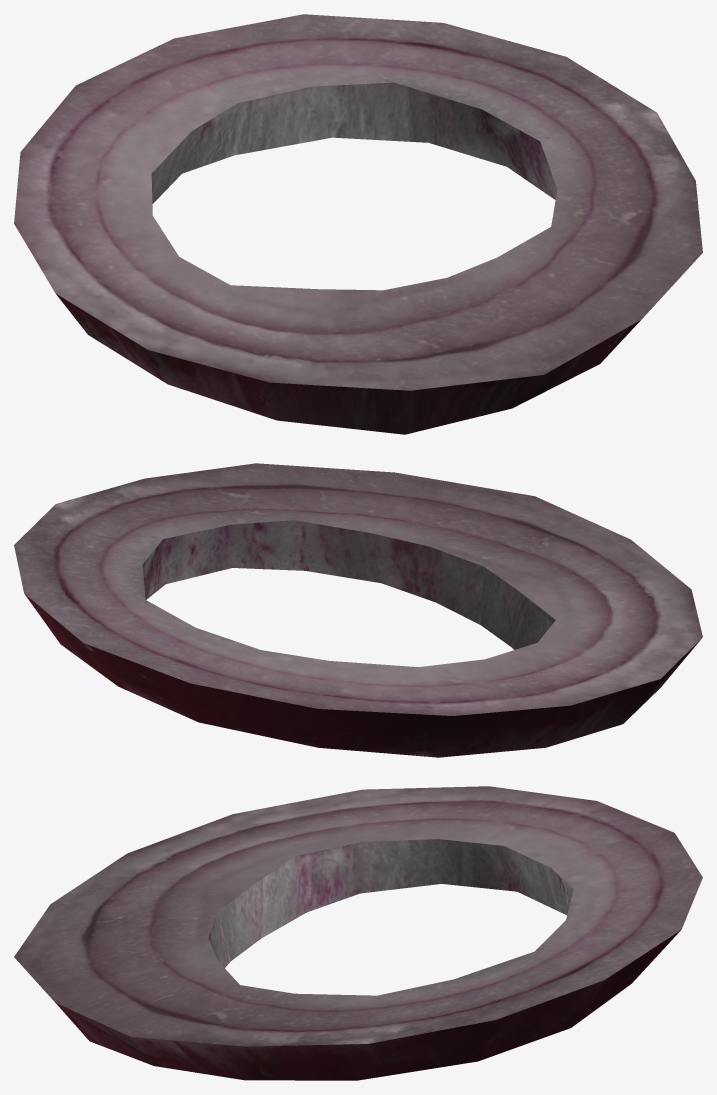
Rendered from Onion.fbx.
3 renders of one model, top to bottom at view 1: azimuth 30°, elevation 25°; view 2: azimuth 150°, elevation 25°; view 3: azimuth 270°, elevation 25°, orthographic. The views are drawn at different scales.
Visible parts, largest first — view 1: Onion_2.001; view 2: Onion_2.001; view 3: Onion_2.001.
Part boxes in pixels (box(x1,y1,x2,y2)): Onion_2.001: box(14, 14, 702, 434); Onion_2.001: box(14, 463, 702, 757); Onion_2.001: box(14, 786, 702, 1080).
Size of the model in its own units: 6.4 by 1.36 by 6.57.
